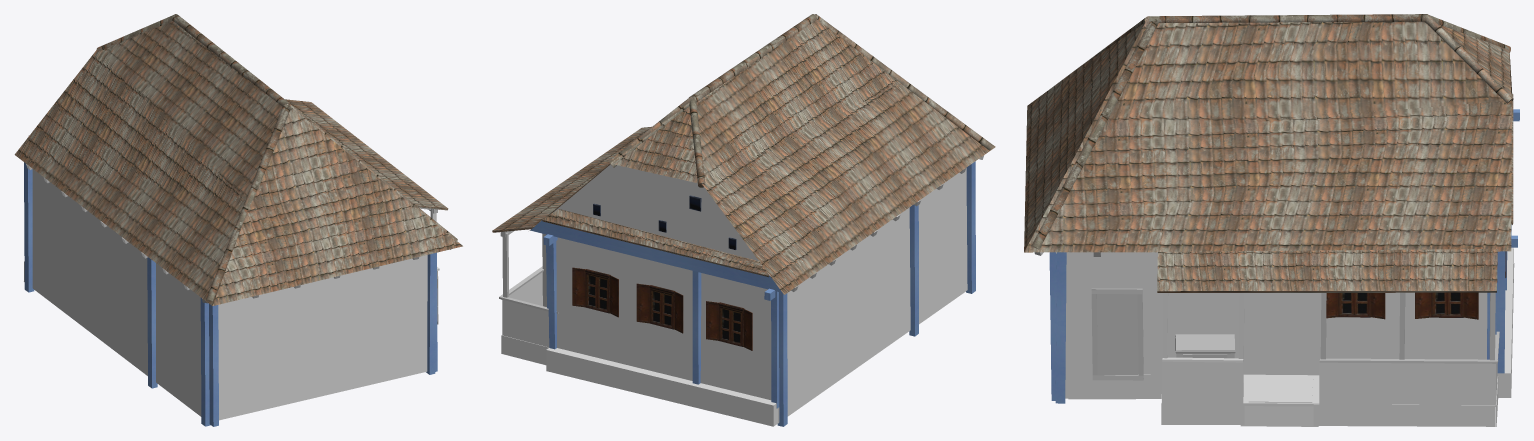
The model's file is casaFermaTexturaBeta(acoperis)1.fbx.
The picture shows the model from 3 angles, left to right: view 1: azimuth 30°, elevation 25°; view 2: azimuth 150°, elevation 25°; view 3: azimuth 270°, elevation 25°; orthographic projection. The views are drawn at different scales.
Parts seen in each view (by area): view 1: Cylinder.345, Cube.133, Cube.132, Cylinder.059, Cube.608, Cylinder.347, Cube.221, Cube.606, Cube.607, Cube.609, Cylinder.363, Cylinder.387; view 2: Cylinder.345, Cube.133, Cube.131, Cube.576, Cube.145, Cylinder.334, Cube.132, Cube.142, Cube.558, Cube.141, Cylinder.059, Cylinder.347 (+16 smaller); view 3: Cylinder.345, Cube.133, Cube.132, Cube.556, Cube.162, Cube.576, Cube.557, Cube.056, Cylinder.363, Cylinder.347, Cube.072, Cylinder.334 (+13 smaller).
Boxes of the visible parts, <box> form: Cylinder.345: <box>14,21,462,305</box>; Cube.133: <box>32,169,427,420</box>; Cube.132: <box>285,99,448,210</box>; Cylinder.059: <box>206,104,291,301</box>; Cube.608: <box>209,304,218,426</box>; Cylinder.347: <box>172,14,290,106</box>; Cube.221: <box>24,162,34,292</box>; Cube.606: <box>147,257,157,388</box>; Cube.607: <box>200,297,210,426</box>; Cube.609: <box>426,253,435,374</box>; Cylinder.363: <box>290,104,457,240</box>; Cylinder.387: <box>96,15,174,52</box>; Cylinder.345: <box>529,14,995,294</box>; Cube.133: <box>556,168,967,422</box>; Cube.131: <box>553,164,758,260</box>; Cube.576: <box>546,291,965,426</box>; Cube.145: <box>542,209,769,277</box>; Cylinder.334: <box>614,106,697,183</box>; Cube.132: <box>492,126,651,232</box>; Cube.142: <box>535,220,776,285</box>; Cube.558: <box>502,300,549,347</box>; Cube.141: <box>530,226,782,292</box>; Cylinder.059: <box>815,14,992,150</box>; Cylinder.347: <box>689,14,816,101</box>; Cylinder.345: <box>1024,16,1512,252</box>; Cube.133: <box>1056,252,1487,398</box>; Cube.132: <box>1157,249,1497,292</box>; Cube.556: <box>1319,362,1495,406</box>; Cube.162: <box>1313,404,1495,426</box>; Cube.576: <box>1068,247,1514,399</box>; Cube.557: <box>1162,361,1243,404</box>; Cube.056: <box>1097,294,1138,375</box>; Cylinder.363: <box>1031,19,1158,249</box>; Cylinder.347: <box>1149,14,1427,22</box>; Cube.072: <box>1161,403,1244,424</box>; Cylinder.334: <box>1439,24,1511,95</box>.
Bounding box in the file's own units: 4109 × 3622 × 4963.
